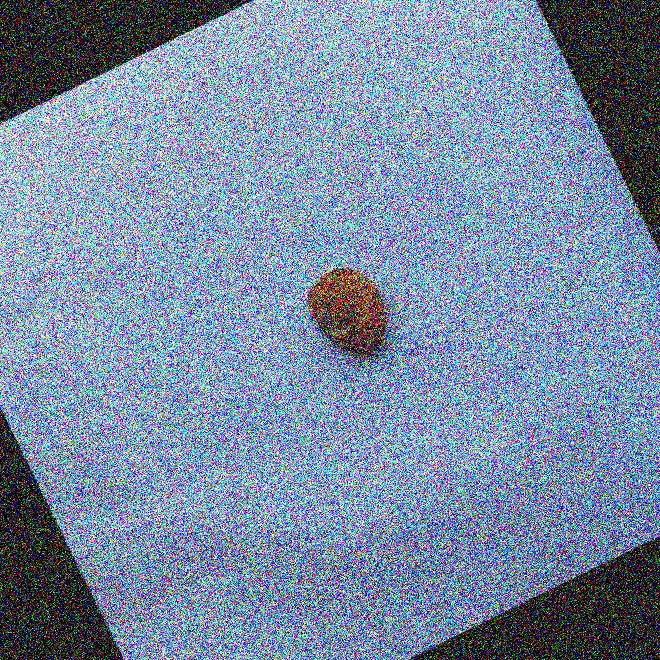grade3: (292, 251, 406, 376)
